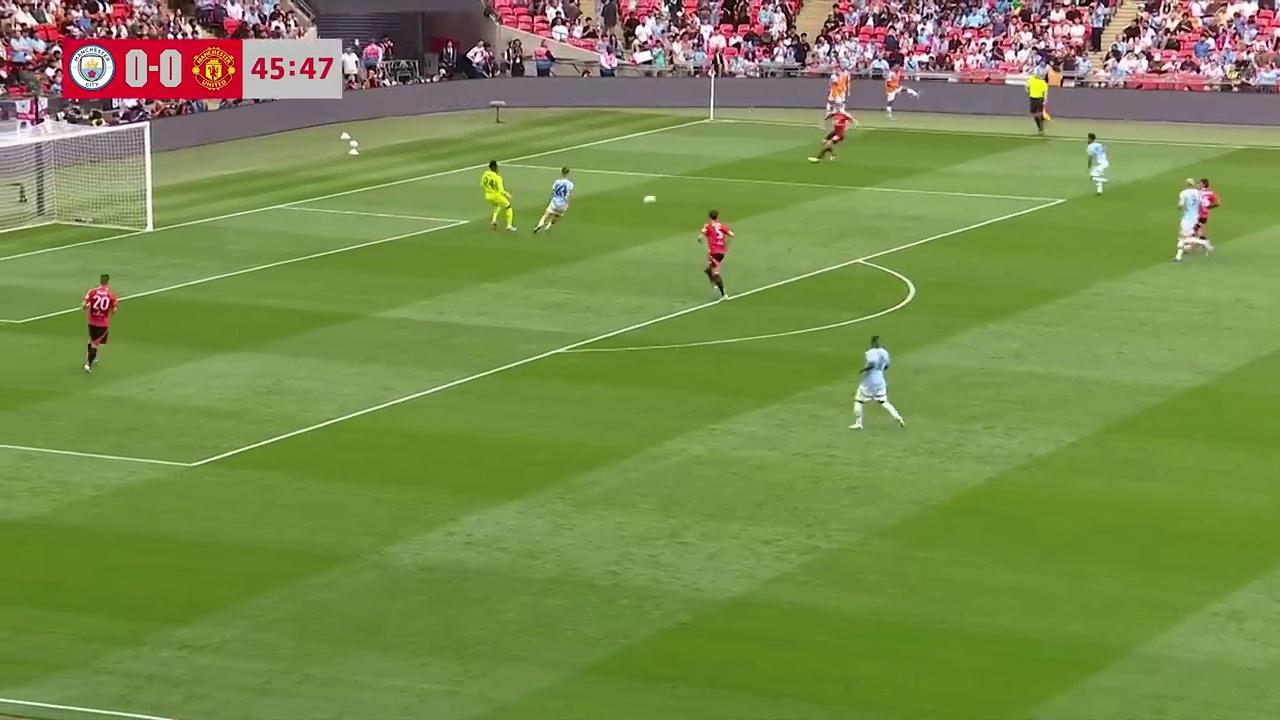ball: (641, 189, 658, 207)
player: (849, 334, 906, 431), (81, 273, 119, 372), (697, 209, 733, 300), (533, 167, 574, 233), (1174, 177, 1205, 261), (481, 159, 516, 232), (814, 103, 857, 161), (1195, 177, 1219, 261), (1086, 133, 1109, 194)
referee: (1028, 74, 1052, 136)
